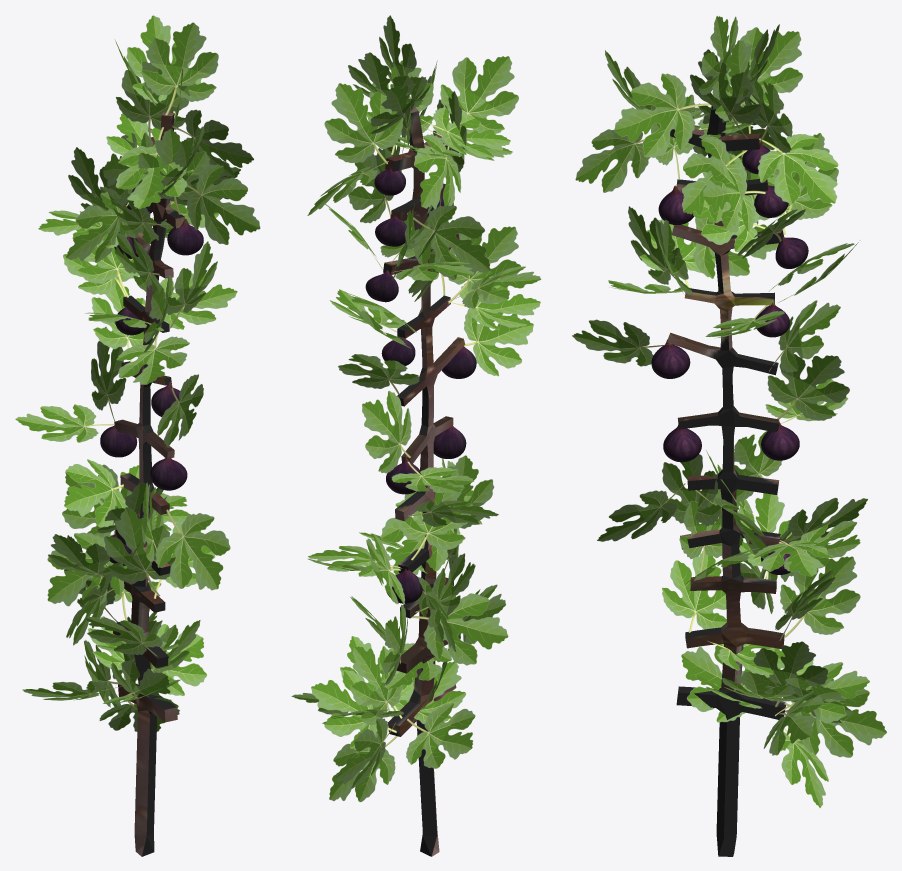
Rendered from fig.glb.
3 views of the same model, side by side, from view 1: azimuth 30°, elevation 25°; view 2: azimuth 150°, elevation 25°; view 3: azimuth 270°, elevation 25° (orthographic). The views are drawn at different scales.
Visible parts, largest first — view 1: fig (×45), Cube, fig whole 1_fig outside_0.004, fig whole 1_fig outside_0.002, fig whole 1_fig outside_0.005, fig whole 1_fig outside_0.003; view 2: fig (×41), Cube, fig whole 1_fig outside_0.004, fig whole 1, fig whole 1_fig outside_0.001, fig whole 1_fig outside_0.003, fig whole 1_fig outside_0.007, fig whole 1_fig outside_0.008, fig whole 1_fig outside_0.006, fig whole 1_fig outside_0.005; view 3: fig (×48), Cube, fig whole 1_fig outside_0.003, fig whole 1_fig outside_0.004, fig whole 1_fig outside_0.005, fig whole 1, fig whole 1_fig outside_0.002, fig whole 1_fig outside_0.001, fig whole 1_fig outside_0.008.
Boxes of the visible parts, x1,y1,x2,y2 form: fig (×45): [15, 15, 260, 732]; Cube: [113, 112, 184, 856]; fig whole 1_fig outside_0.004: [150, 456, 187, 490]; fig whole 1_fig outside_0.002: [167, 218, 203, 255]; fig whole 1_fig outside_0.005: [100, 420, 137, 457]; fig whole 1_fig outside_0.003: [151, 381, 179, 416]; fig (×41): [307, 15, 541, 802]; Cube: [383, 108, 465, 856]; fig whole 1_fig outside_0.004: [433, 425, 466, 458]; fig whole 1: [365, 270, 398, 302]; fig whole 1_fig outside_0.001: [375, 216, 406, 246]; fig whole 1_fig outside_0.003: [441, 346, 476, 378]; fig whole 1_fig outside_0.007: [374, 167, 405, 195]; fig whole 1_fig outside_0.008: [381, 337, 415, 366]; fig whole 1_fig outside_0.006: [386, 568, 422, 603]; fig whole 1_fig outside_0.005: [386, 456, 421, 494]; fig (×48): [572, 16, 886, 808]; Cube: [667, 106, 786, 856]; fig whole 1_fig outside_0.003: [651, 339, 690, 378]; fig whole 1_fig outside_0.004: [663, 424, 701, 462]; fig whole 1_fig outside_0.005: [761, 420, 799, 460]; fig whole 1: [775, 237, 808, 268]; fig whole 1_fig outside_0.002: [658, 185, 693, 224]; fig whole 1_fig outside_0.001: [754, 185, 788, 217]; fig whole 1_fig outside_0.008: [755, 303, 789, 337].
Size of the model in its own units: 0.7959 by 3.42 by 1.14.
11 materials, 11 textured.
